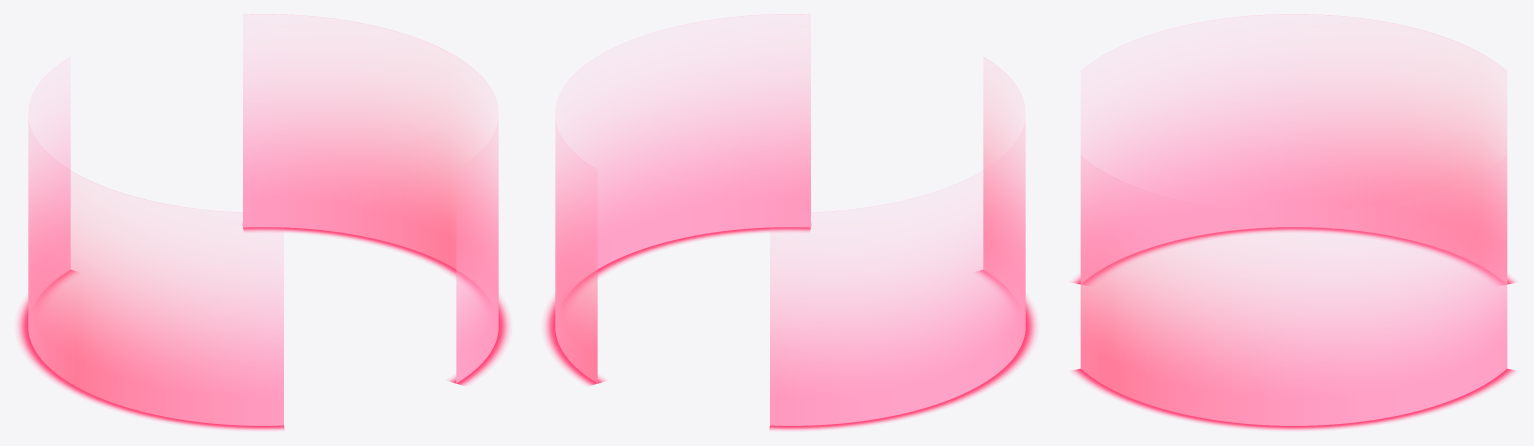
Rendered from wave_band.glb.
3 renders of one model, left to right at view 1: azimuth 30°, elevation 25°; view 2: azimuth 150°, elevation 25°; view 3: azimuth 270°, elevation 25°, orthographic.
Parts seen in each view (by area): view 1: band0, band1, strip0, strip1; view 2: band0, band1, strip0, strip1; view 3: band0, band1, strip0, strip1.
Part boxes in pixels (x1,y1,x2,y2): band0: (243, 14, 498, 383); band1: (28, 57, 283, 425); strip0: (242, 223, 509, 385); strip1: (17, 270, 284, 430); band0: (555, 14, 810, 383); band1: (770, 57, 1025, 425); strip0: (544, 223, 811, 385); strip1: (769, 270, 1036, 430); band0: (1080, 156, 1507, 425); band1: (1080, 14, 1507, 283); strip0: (1072, 368, 1515, 430); strip1: (1072, 227, 1515, 285).
Size of the model in its own units: 2.12 by 1 by 1.92.
Materials: 2 (2 with a texture image).
